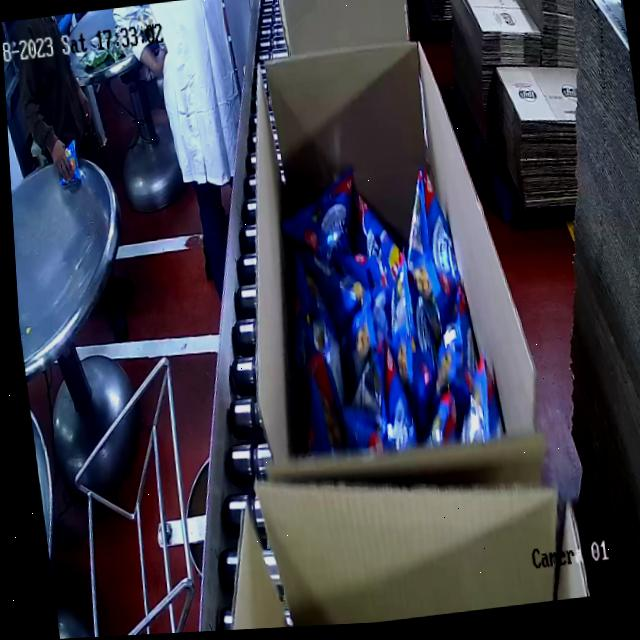PAPRIKA: (271, 186, 489, 437)
